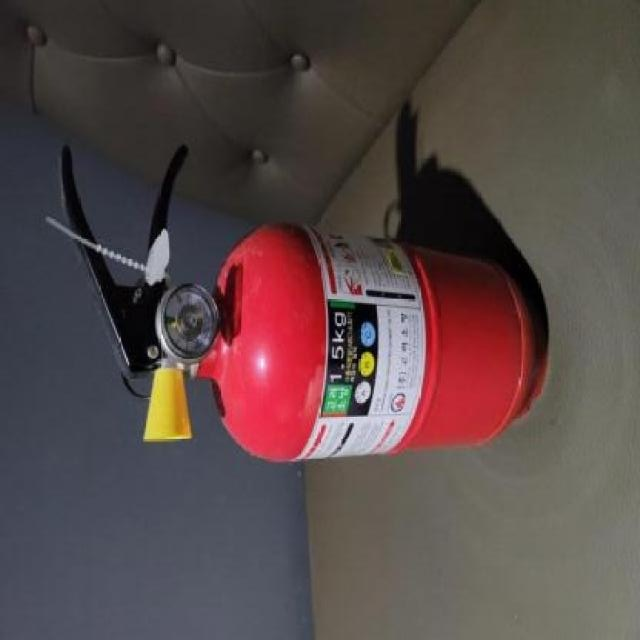fire extinguisher: (58, 142, 550, 464)
